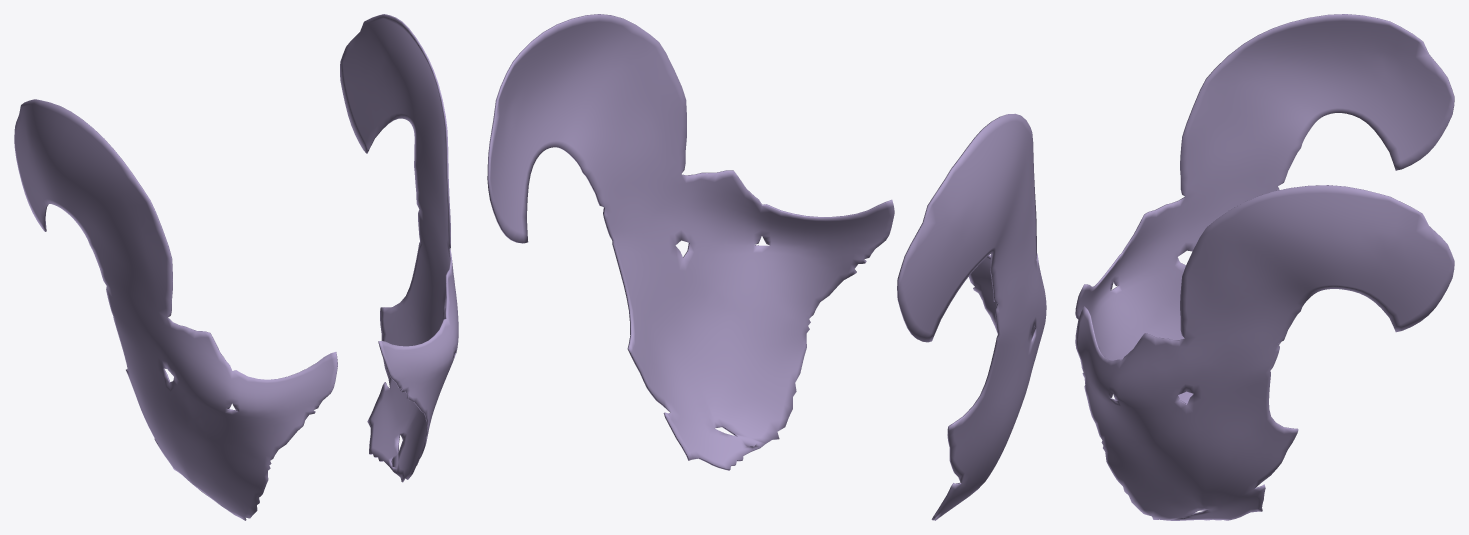
The model's file is smas.glb.
3 views of the same model, side by side, from view 1: azimuth 30°, elevation 25°; view 2: azimuth 150°, elevation 25°; view 3: azimuth 270°, elevation 25° (orthographic). The views are drawn at different scales.
Parts seen in each view (by area): view 1: smas__smas-r, smas__smas-l; view 2: smas__smas-l, smas__smas-r; view 3: smas__smas-l, smas__smas-r.
Part boxes in pixels (x1,y1,x2,y2): smas__smas-r: (14,99,337,520); smas__smas-l: (340,14,458,482); smas__smas-l: (487,14,894,470); smas__smas-r: (897,113,1046,520); smas__smas-l: (1075,185,1454,520); smas__smas-r: (1075,14,1454,403).
Bounding box in the file's own units: 14.81 × 14.4 × 13.01.
